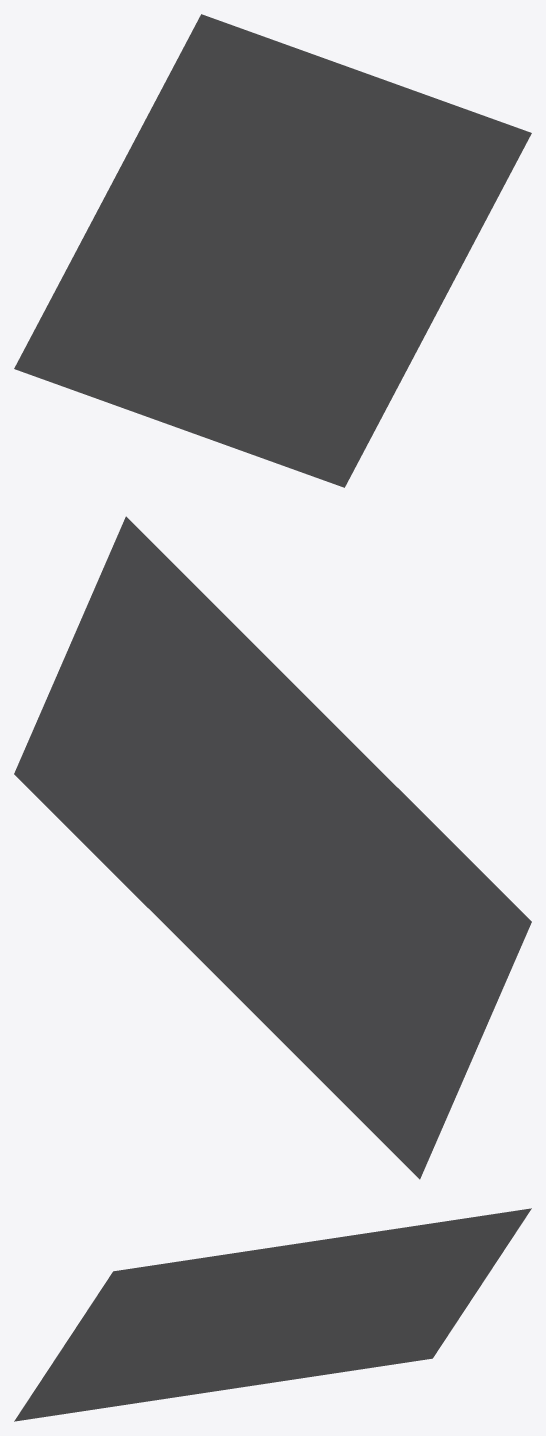
The model's file is secondary_157.glb.
3 views of the same model, one above another, from view 1: azimuth 30°, elevation 25°; view 2: azimuth 150°, elevation 25°; view 3: azimuth 270°, elevation 25° (orthographic). The views are drawn at different scales.
Parts seen in each view (by area): view 1: Object; view 2: Object; view 3: Object.
Part boxes in pixels (bbox=[...]): Object: bbox=[14, 14, 531, 487]; Object: bbox=[14, 516, 531, 1179]; Object: bbox=[14, 1208, 531, 1421].
Size of the model in its own units: 1.65 by 1.14 by 1.99.
Materials: 1 (1 with a texture image).
